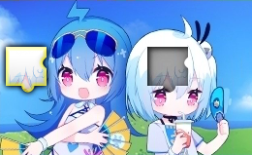gap: (147, 46, 188, 91)
